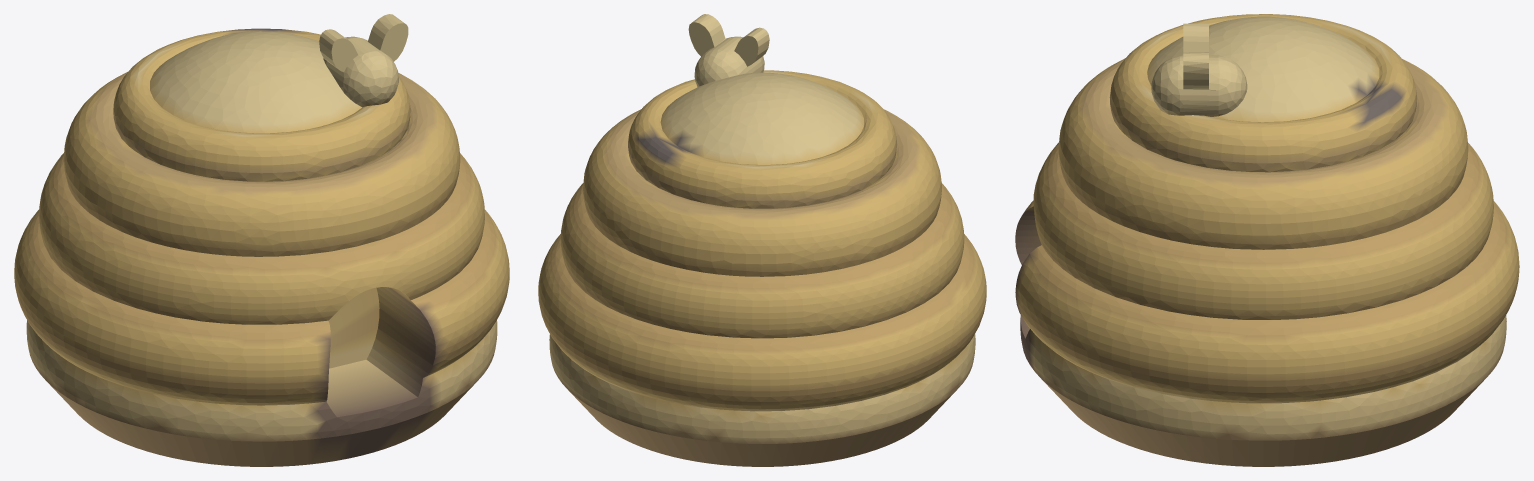
Rendered from hive.glb.
3 renders of one model, left to right at view 1: azimuth 30°, elevation 25°; view 2: azimuth 150°, elevation 25°; view 3: azimuth 270°, elevation 25°, orthographic. The views are drawn at different scales.
Visible parts, largest first — view 1: Beehive_Skep; view 2: Beehive_Skep; view 3: Beehive_Skep.
Boxes of the visible parts, x1,y1,x2,y2 form: Beehive_Skep: (14, 14, 509, 466); Beehive_Skep: (538, 14, 986, 466); Beehive_Skep: (1015, 14, 1519, 466).
Size of the model in its own units: 0.688 by 0.5576 by 0.6773.
